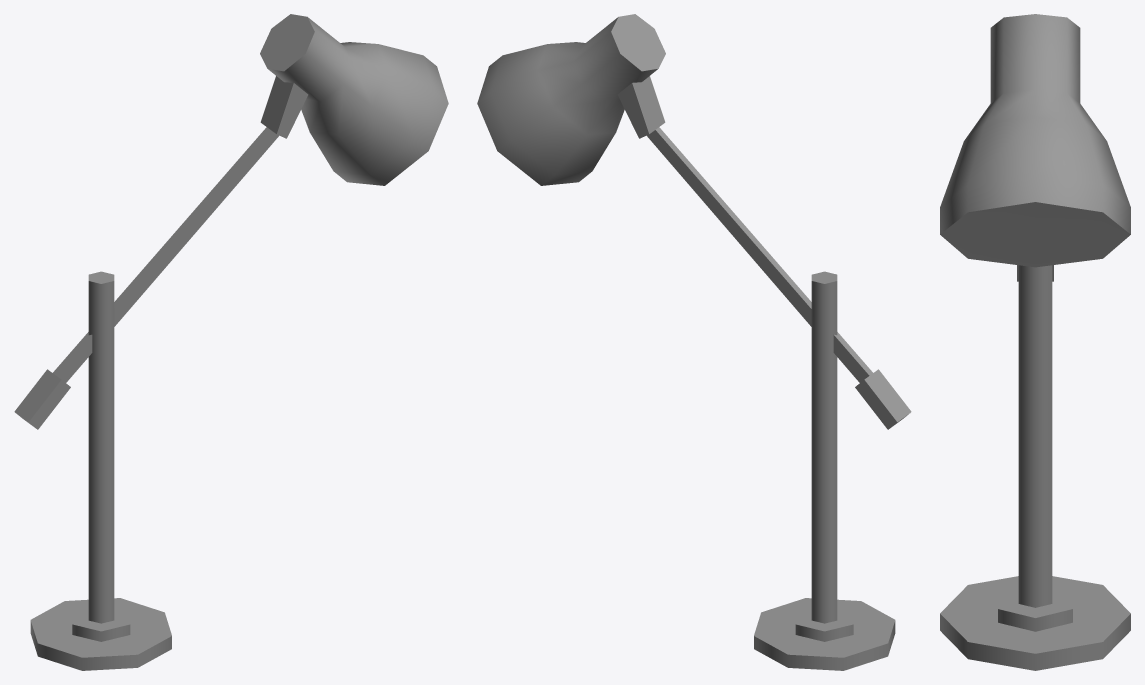
The model's file is Desklamp_01_snaps001.fbx.
3 views of the same model, side by side, from view 1: azimuth 30°, elevation 25°; view 2: azimuth 150°, elevation 25°; view 3: azimuth 270°, elevation 25° (orthographic). The views are drawn at different scales.
Visible parts, largest first — view 1: Desklamp_01_snaps001; view 2: Desklamp_01_snaps001; view 3: Desklamp_01_snaps001.
Part boxes in pixels (box(x1,y1,x2,y2)): Desklamp_01_snaps001: box(14, 14, 448, 670); Desklamp_01_snaps001: box(477, 14, 911, 670); Desklamp_01_snaps001: box(940, 14, 1130, 670).
Bounding box in the file's own units: 0.4853 × 0.6404 × 0.1482.
Materials: 1 (1 with a texture image).
